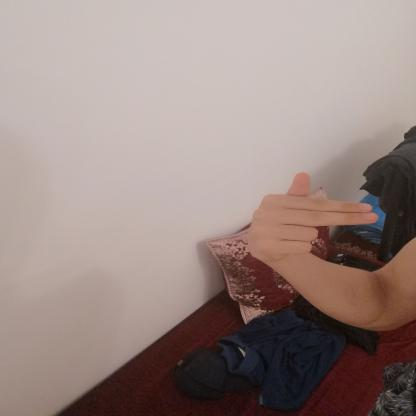GHAYN: (236, 163, 388, 267)
